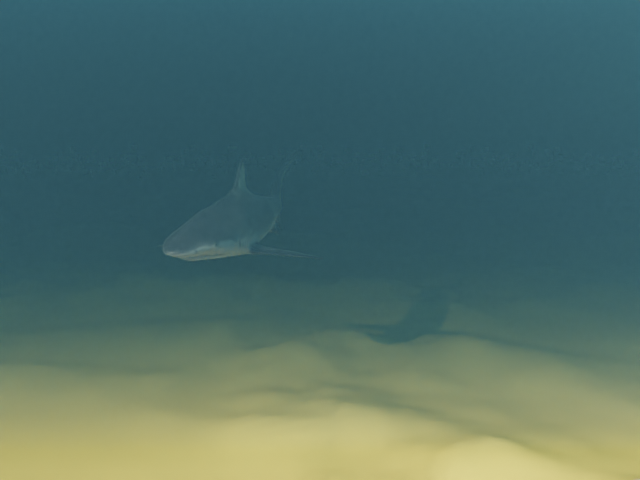Carribean Shark.001: (156, 150, 324, 260)
